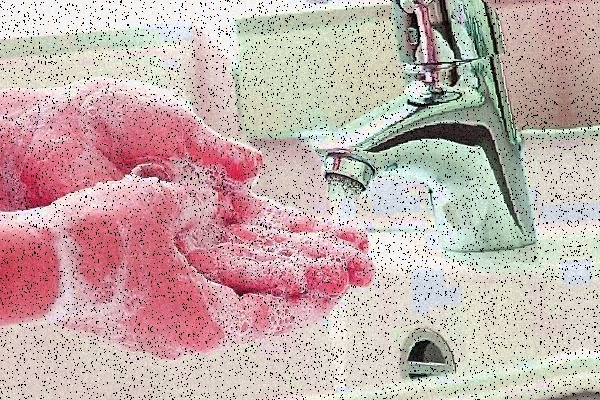washing hand: (0, 0, 534, 399)
